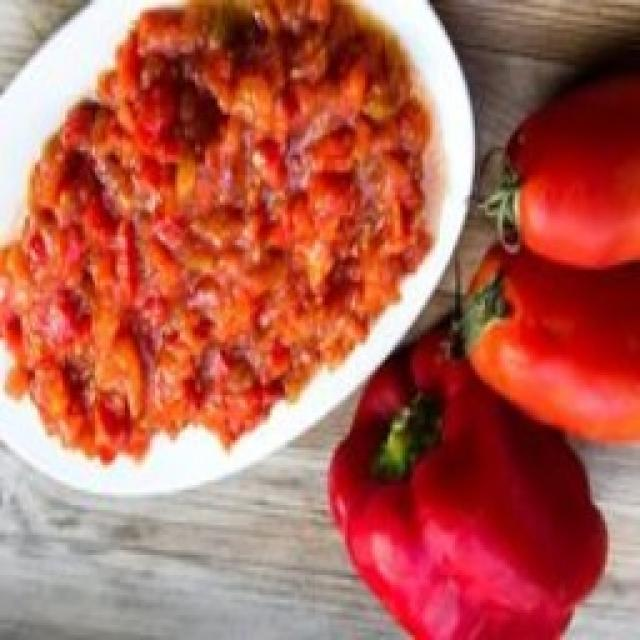Harissa: (0, 0, 472, 468)
